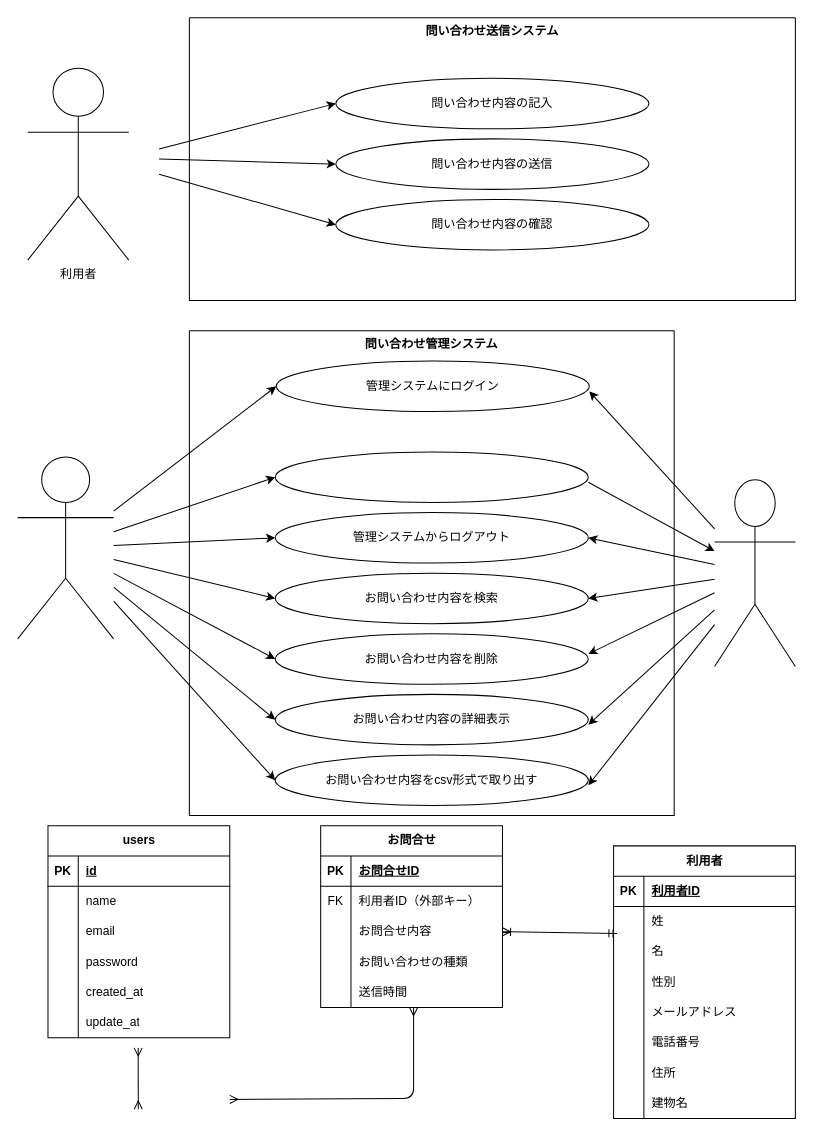
This 813x1136 diagram has some shape labels left out. Each missing label, with the centre of its shape:
新規ユーザーの作成・登録: the point at 431,476
新規管理者: the point at 754,573
管理者: the point at 65,547
